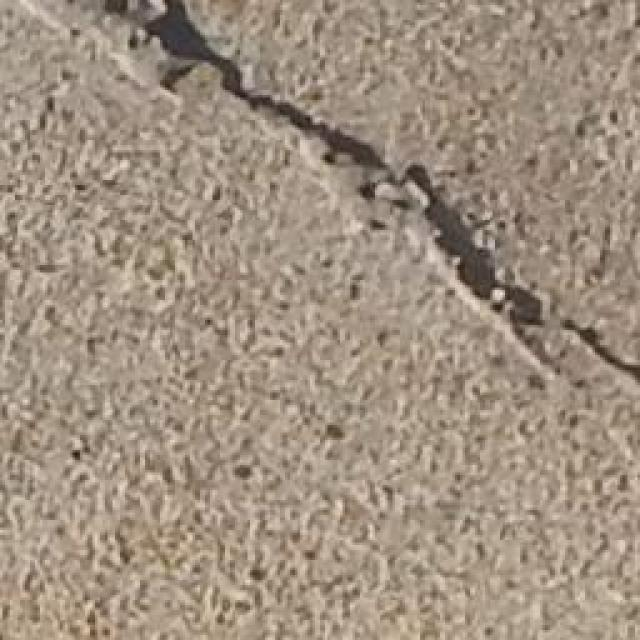concrete-crack: (134, 0, 640, 398)
